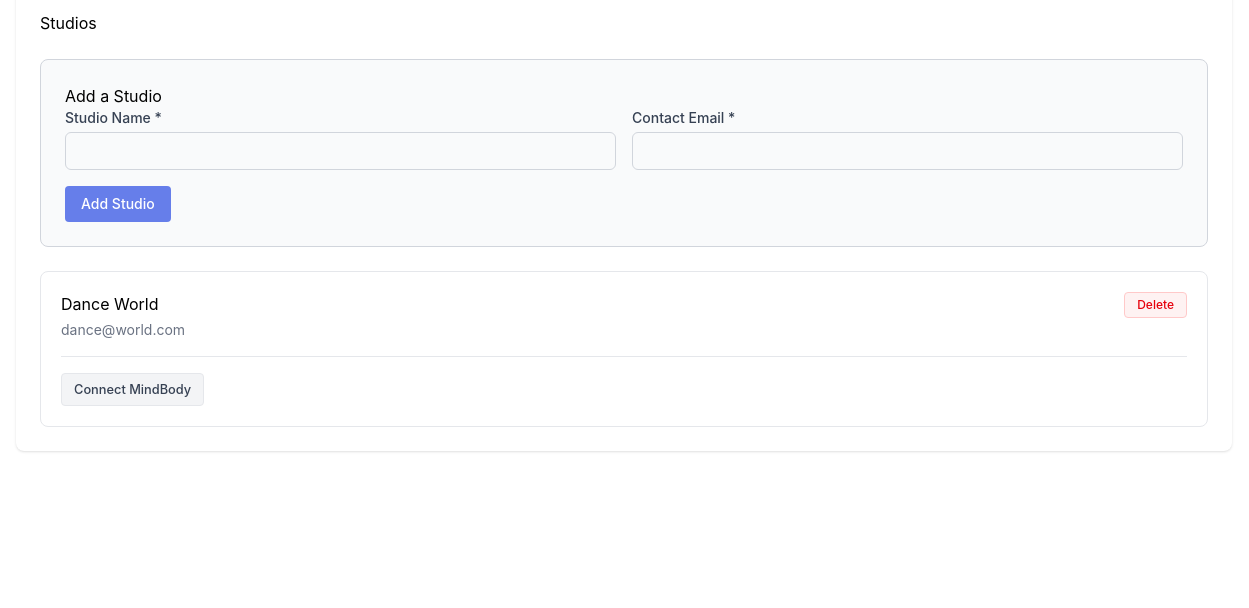
Test: StudioPage › should hide the MindBody connect form when Cancel is clicked
expect the heading "Dance World" is shown: met, box top-left (61, 294), bottom-right (158, 314)
Click the button "Connect MindBody". click: (133, 390)
box: top-left (61, 373), bottom-right (204, 406)
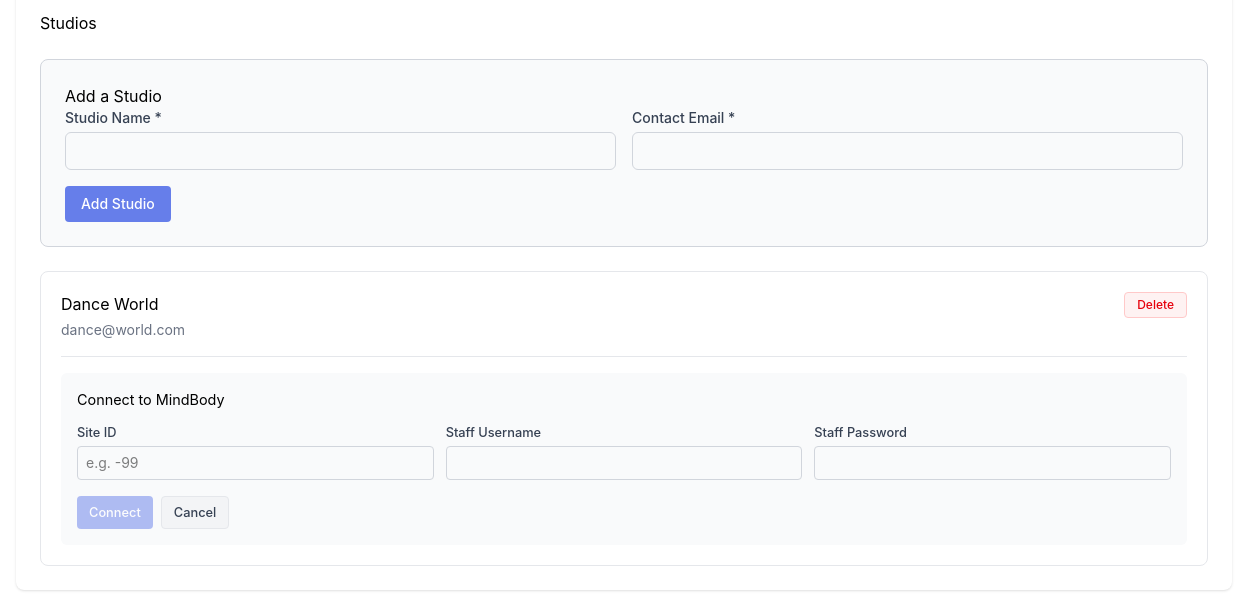
expect the heading "Connect to MindBody" is shown: met, box top-left (77, 391), bottom-right (225, 408)
Click the button "Cancel". click: (195, 512)
box: top-left (161, 496), bottom-right (229, 529)
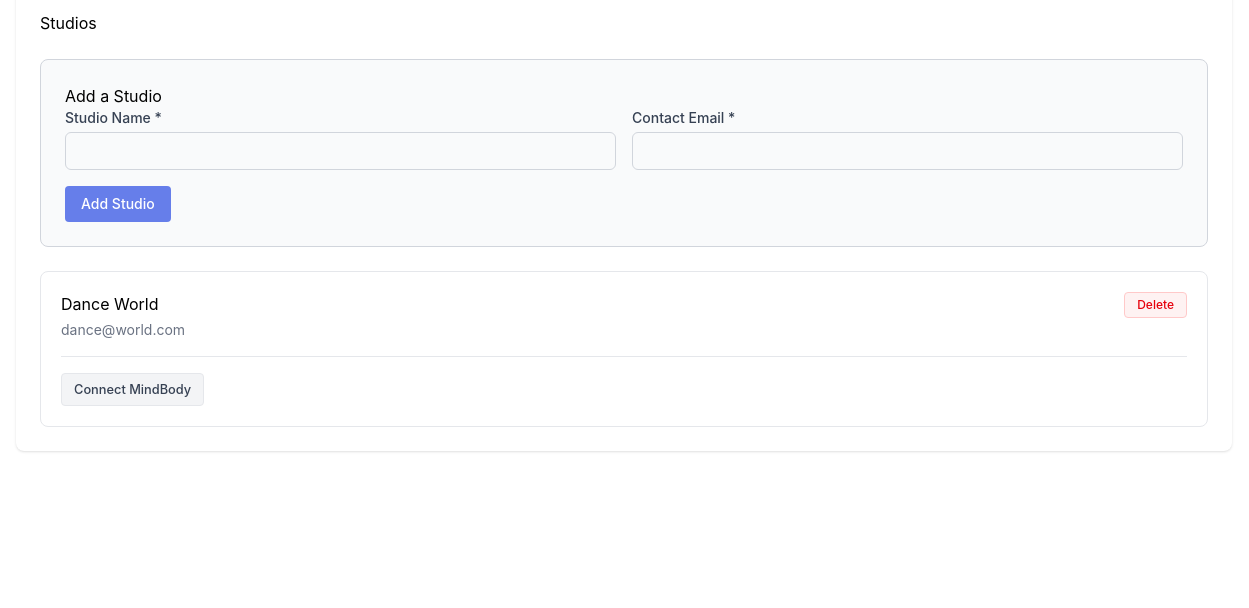
expect the heading "Connect to MindBody" is gone: met
expect the button "Connect MindBody" is shown: met, box top-left (61, 373), bottom-right (204, 406)
